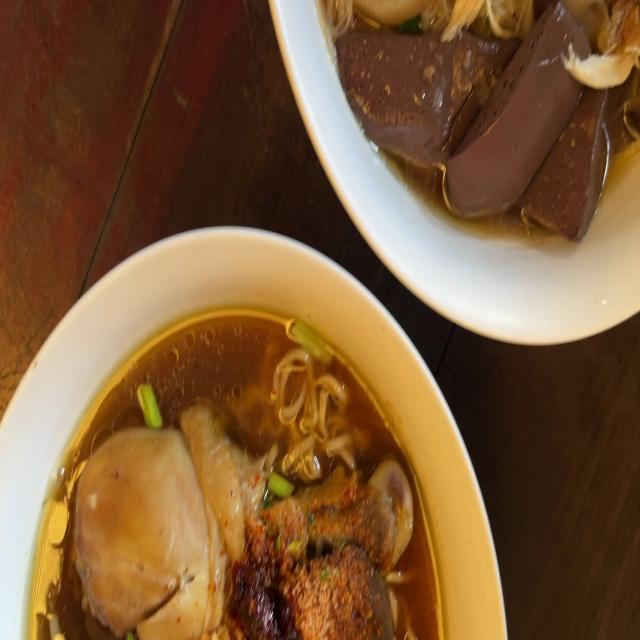noodle: (9, 288, 454, 640), (296, 0, 640, 238)
